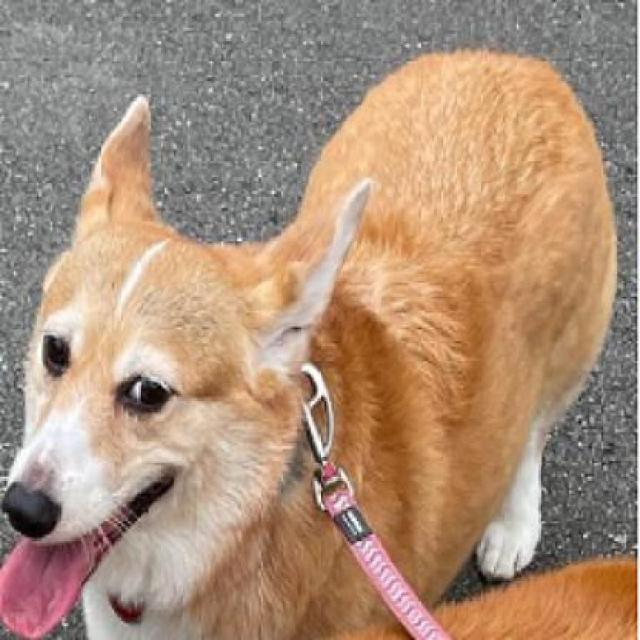Dog: (3, 44, 622, 638)
